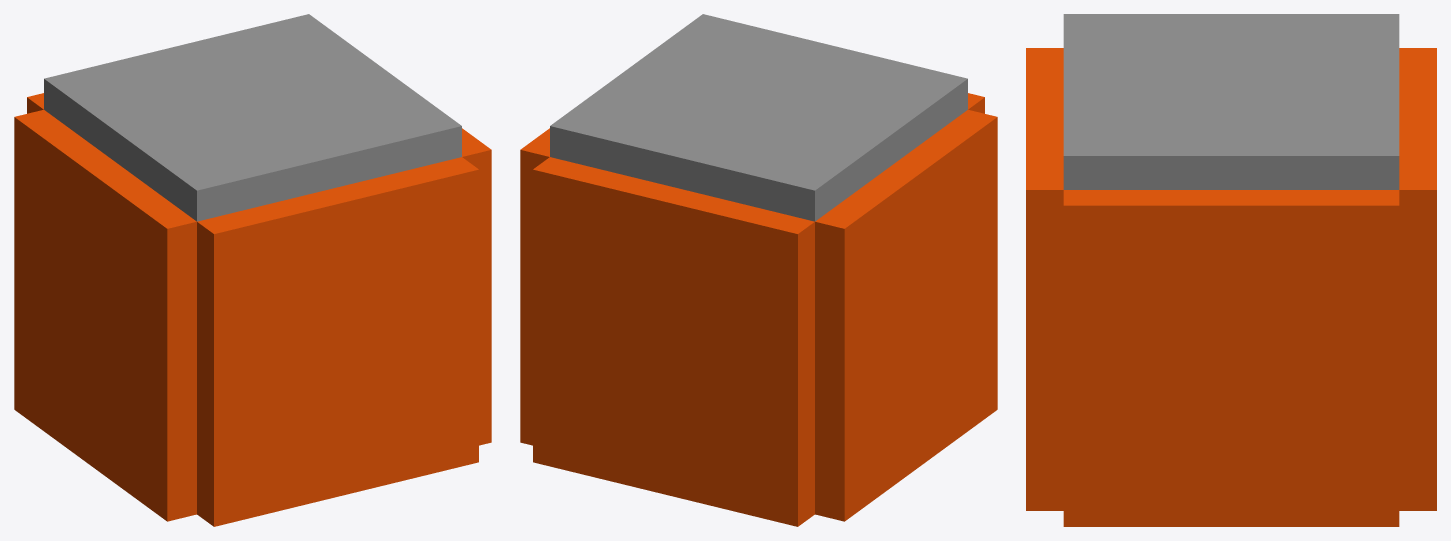
Rendered from Rice Cooker.fbx.
3 views of the same model, side by side, from view 1: azimuth 30°, elevation 25°; view 2: azimuth 150°, elevation 25°; view 3: azimuth 270°, elevation 25° (orthographic). The views are drawn at different scales.
Visible parts, largest first — view 1: Rice Cooker; view 2: Rice Cooker; view 3: Rice Cooker.
Part boxes in pixels (x1,y1,x2,y2): Rice Cooker: (14,14,491,526); Rice Cooker: (520,14,997,526); Rice Cooker: (1026,14,1436,526).
Size of the model in its own units: 0.2203 by 0.2101 by 0.2203.
